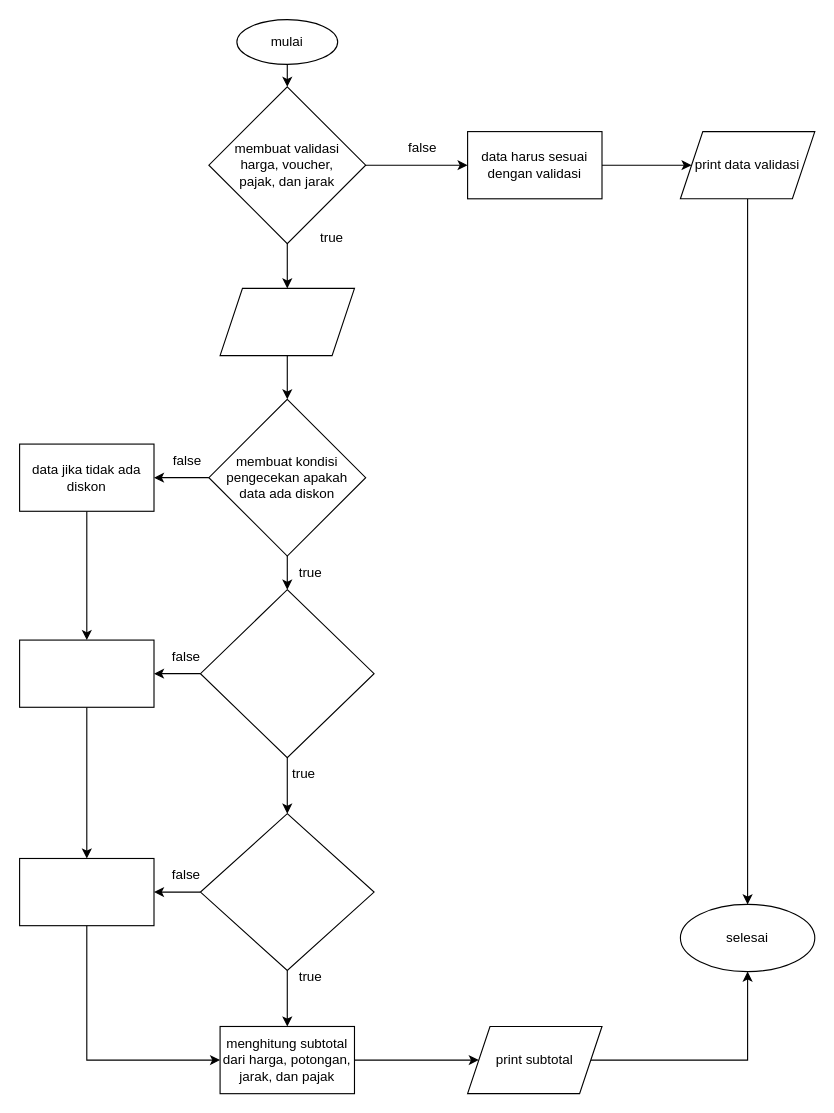
The diagram is 834 pixels wide and 1113 high, and some of its shapes have lost their labels. The centre of each missing label's shape, as x and y in pixels:
"input variabel dari diskon, delivery, tax" goes at point 286,321.
"jika delivery kurang dari 2 km" goes at point 86,673.
"jika tidak ada tax" goes at point 86,891.
"membuat kondisi pengecekan apakah ada tax" goes at point 286,891.
"membuat kondisi pengecekan delivery apakah delivery lebih dari 2 km" goes at point 286,673.
